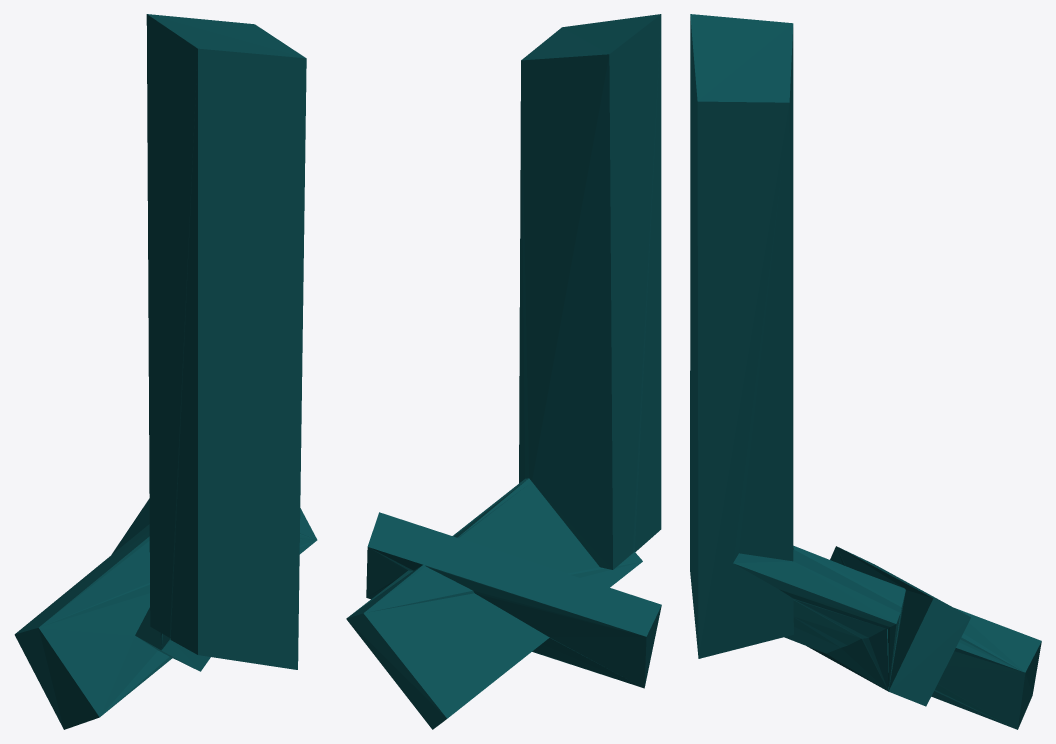
The picture shows the model from 3 angles, left to right: view 1: azimuth 30°, elevation 25°; view 2: azimuth 150°, elevation 25°; view 3: azimuth 270°, elevation 25°; orthographic projection. The views are drawn at different scales.
Visible parts, largest first — view 1: 315_Cube.1289; view 2: 315_Cube.1289; view 3: 315_Cube.1289.
Part boxes in pixels (x1,y1,x2,y2): 315_Cube.1289: (14, 14, 317, 729); 315_Cube.1289: (346, 14, 661, 729); 315_Cube.1289: (690, 14, 1041, 729).
Size of the model in its own units: 6.28 by 14.19 by 6.7.
